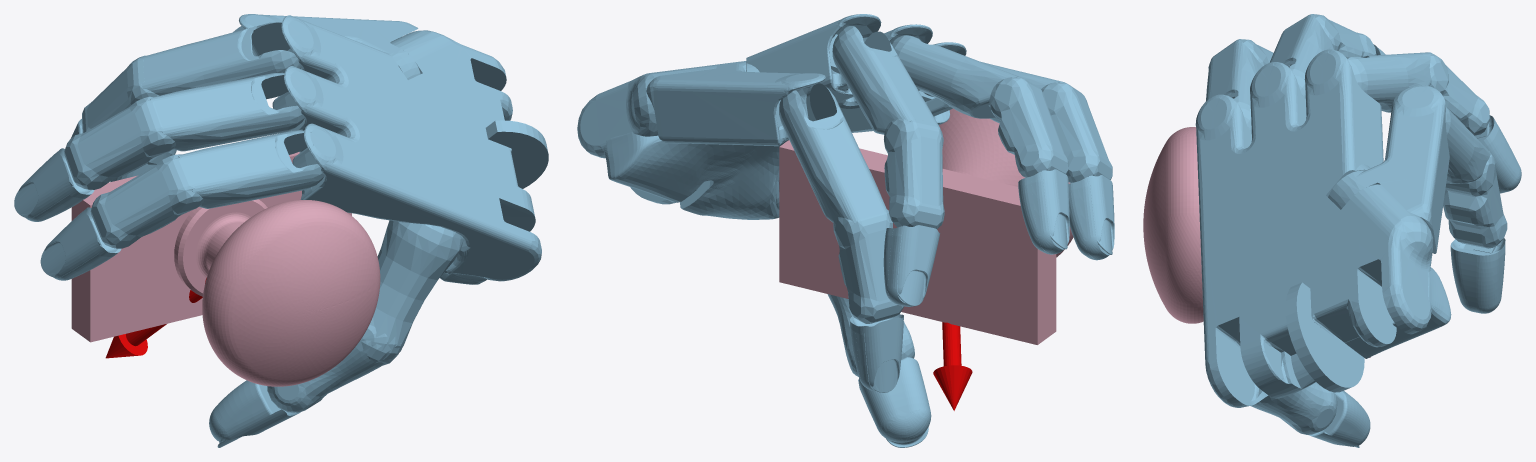
The picture shows the model from 3 angles, left to right: view 1: azimuth 30°, elevation 25°; view 2: azimuth 150°, elevation 25°; view 3: azimuth 270°, elevation 25°; orthographic projection.
Parts seen in each view (by area): view 1: world, door_knob.stl; view 2: world, door_knob.stl; view 3: world, door_knob.stl.
Boxes of the visible parts, bbox=[...] form: world: bbox=[14, 14, 548, 447]; door_knob.stl: bbox=[71, 152, 380, 386]; world: bbox=[577, 14, 1114, 447]; door_knob.stl: bbox=[779, 108, 1073, 344]; world: bbox=[1195, 14, 1521, 447]; door_knob.stl: bbox=[1143, 127, 1370, 357].
Bounding box in the file's own units: 0.1907 × 0.1533 × 0.1249.
